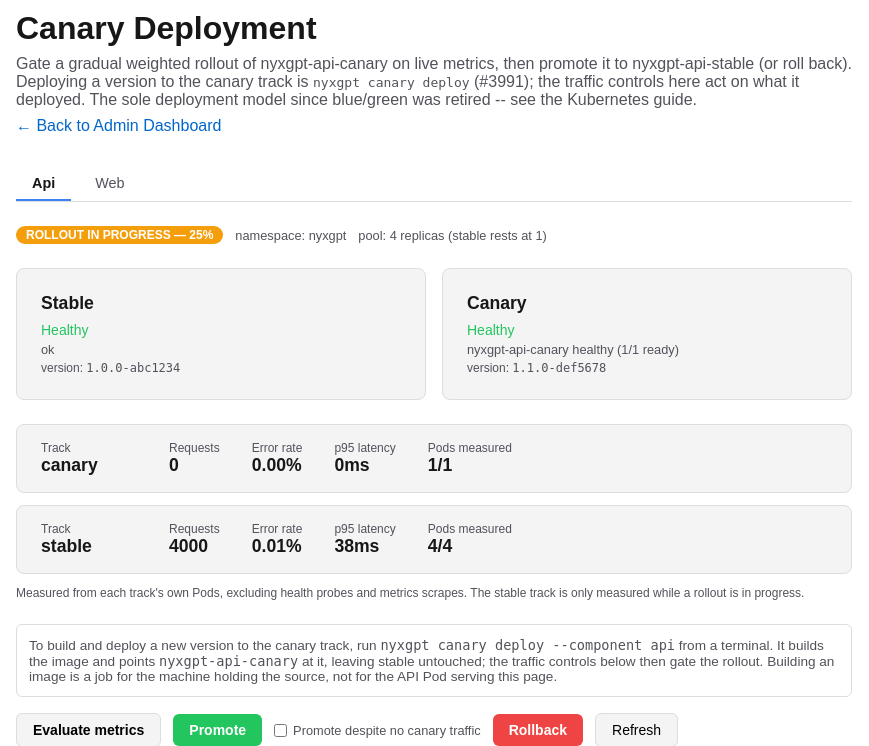
Test: CanaryPage › clears the override when the operator switches to another component
Step 1. Click the checkbox labelled "Promote despite no canary traffic" → (281, 730), box x1=274 y1=724 x2=287 y2=736
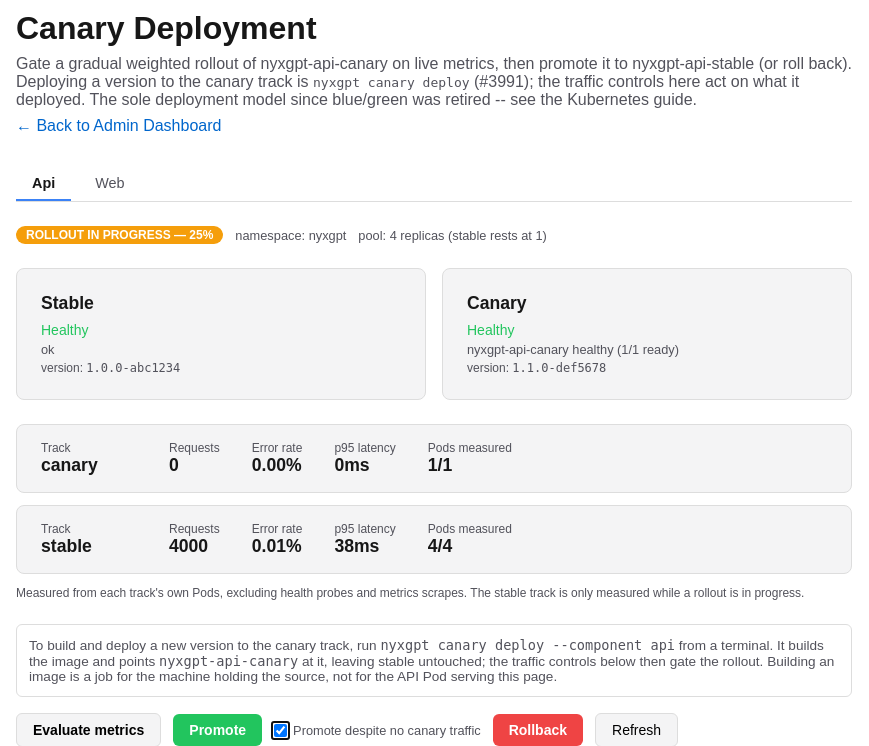
expect the checkbox labelled "Promote despite no canary traffic" is checked: met, box x1=274 y1=724 x2=287 y2=736
Step 2. Click the button "web" → (110, 184), box x1=79 y1=167 x2=140 y2=201
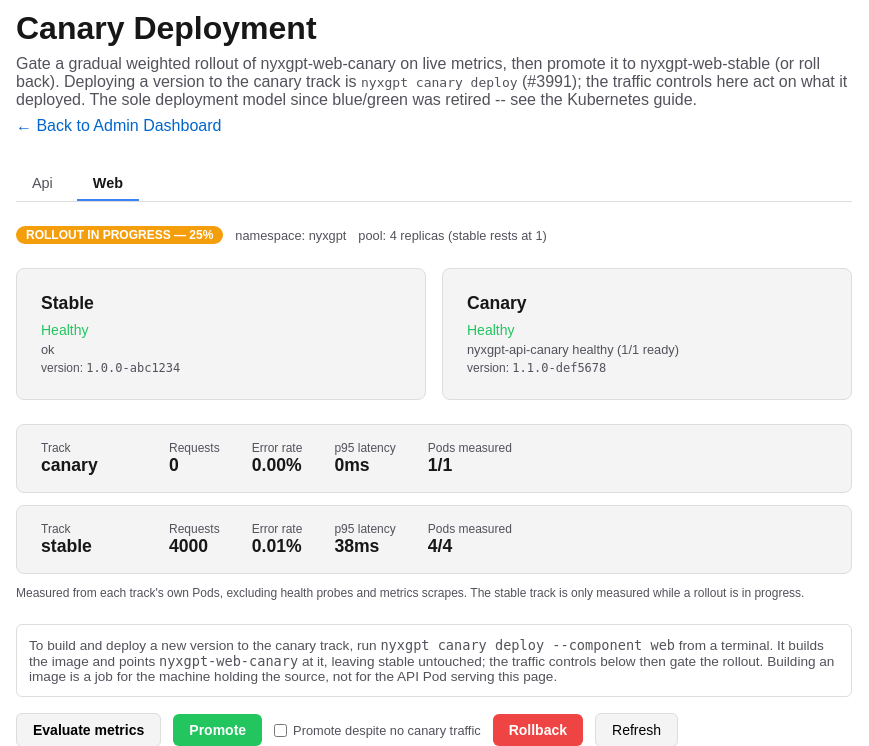
expect the checkbox labelled "Promote despite no canary traffic" is not checked: met, box x1=274 y1=724 x2=287 y2=736
